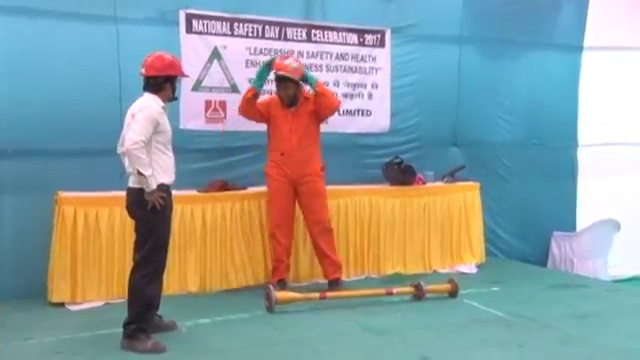helmet: (137, 51, 189, 79), (271, 55, 305, 84)
helmet_on: (134, 50, 190, 106), (267, 56, 310, 111)
person: (237, 56, 350, 292), (115, 49, 190, 354)
